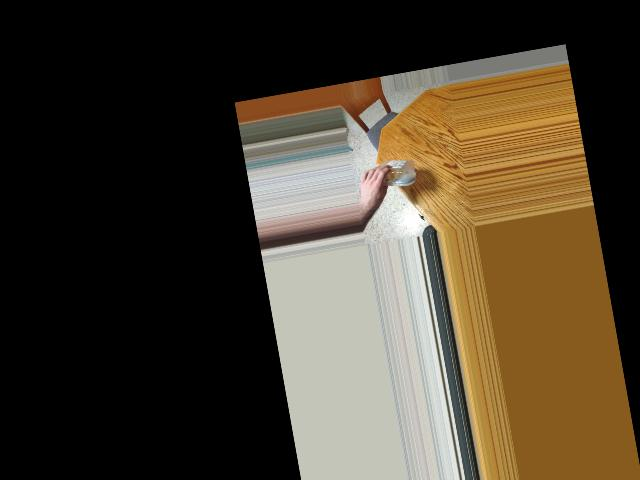cheese: (366, 154, 412, 195)
